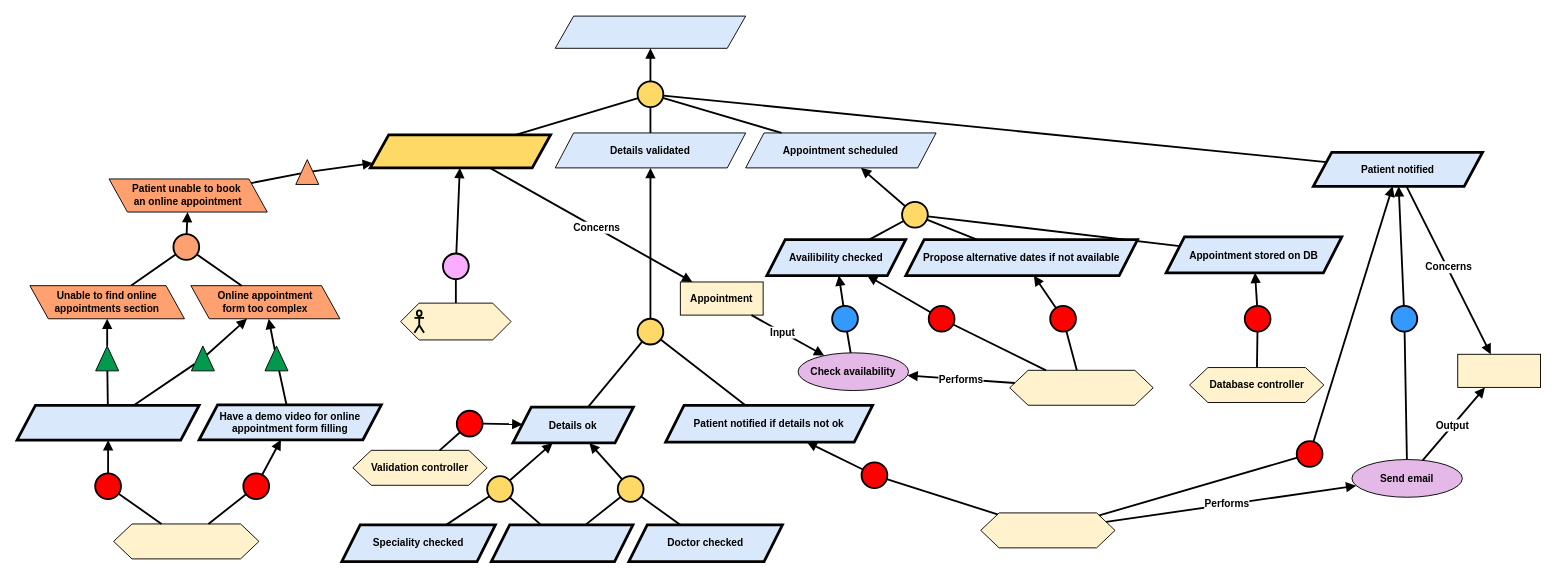
The diagram is 1557 pixels wide and 579 high, and some of its shapes have lost their labels. Each missing label, with the centre of its shape:
Appointment details provided: the point at 460,151
Appointments controller: the point at 1081,387
Date / hour checked: the point at 561,543
Email: the point at 1499,370
FAQs provided: the point at 107,422
Message controller: the point at 1047,530
Patient: the point at 455,321
Patient support controller: the point at 186,541
Schedule online appointment: the point at 650,31
